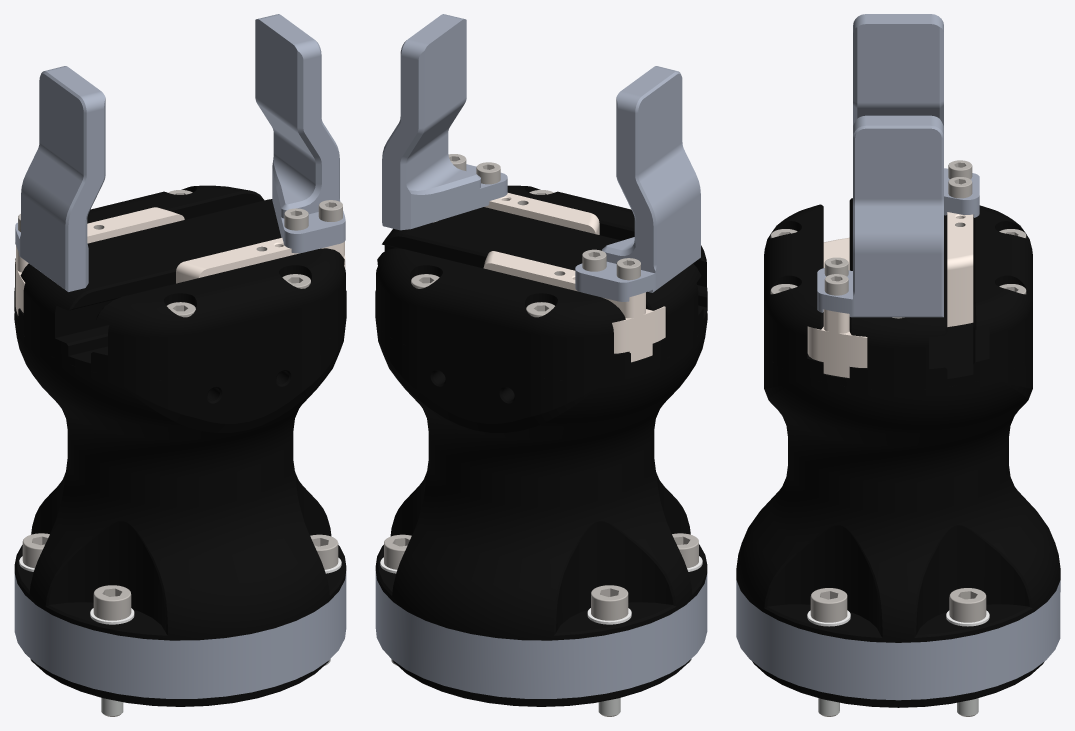
The model's file is RobotHand-E.dae.
3 renders of one model, left to right at view 1: azimuth 30°, elevation 25°; view 2: azimuth 150°, elevation 25°; view 3: azimuth 270°, elevation 25°, orthographic. The views are drawn at different scales.
Visible parts, largest first — view 1: RFBXASC195FBXASC169ductionFBXASC032deFBXASC032dFBXASC195FBXA (×6), Boss.-Extru.1; view 2: RFBXASC195FBXASC169ductionFBXASC032deFBXASC032dFBXASC195FBXA (×6), Boss.-Extru.1; view 3: RFBXASC195FBXASC169ductionFBXASC032deFBXASC032dFBXASC195FBXA (×5), Boss.-Extru.1.
Part boxes in pixels (x1,y1,x2,y2): RFBXASC195FBXASC169ductionFBXASC032deFBXASC032dFBXASC195FBXA (×6): (14, 14, 346, 716); Boss.-Extru.1: (14, 185, 346, 380); RFBXASC195FBXASC169ductionFBXASC032deFBXASC032dFBXASC195FBXA (×6): (375, 14, 707, 716); Boss.-Extru.1: (375, 185, 707, 380); RFBXASC195FBXASC169ductionFBXASC032deFBXASC032dFBXASC195FBXA (×5): (736, 14, 1060, 716); Boss.-Extru.1: (764, 198, 1032, 389).
Bounding box in the file's own units: 7.5 × 15.11 × 7.47.
